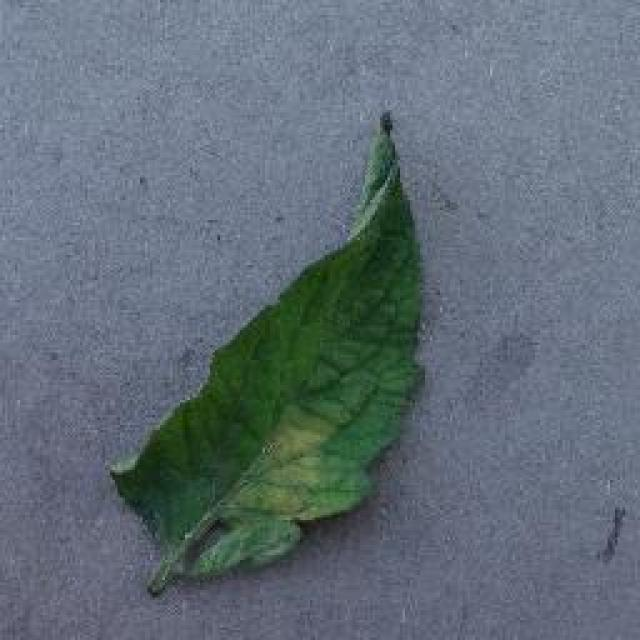Tomato mold leaf: (110, 106, 430, 576)
